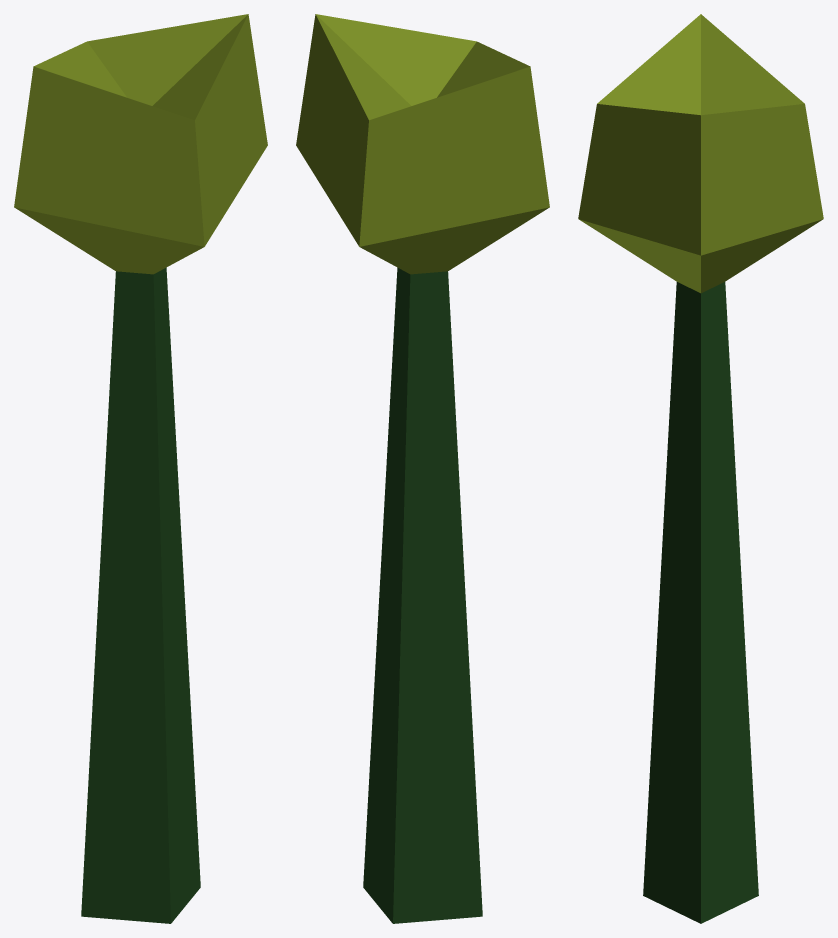
Rendered from flower4.FBX.
The picture shows the model from 3 angles, left to right: view 1: azimuth 30°, elevation 25°; view 2: azimuth 150°, elevation 25°; view 3: azimuth 270°, elevation 25°; orthographic projection. The views are drawn at different scales.
Visible parts, largest first — view 1: flower4; view 2: flower4; view 3: flower4.
Part boxes in pixels (x1,y1,x2,y2): flower4: [14, 14, 267, 923]; flower4: [296, 14, 549, 923]; flower4: [578, 14, 823, 923].
Size of the model in its own units: 7.64 by 6.63 by 24.76.
